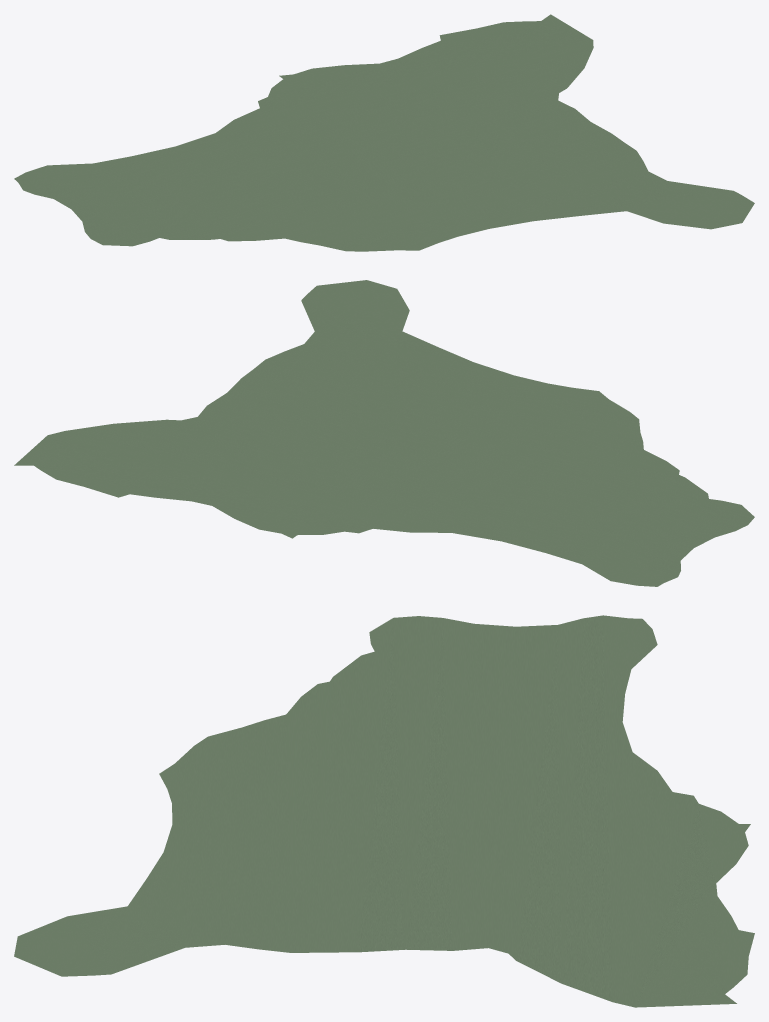
Rendered from nui-cam-lake.glb.
3 renders of one model, top to bottom at view 1: azimuth 30°, elevation 25°; view 2: azimuth 150°, elevation 25°; view 3: azimuth 270°, elevation 25°, orthographic. The views are drawn at different scales.
Visible parts, largest first — view 1: nui-cam-lake; view 2: nui-cam-lake; view 3: nui-cam-lake.
Part boxes in pixels (x1=…): nui-cam-lake: x1=14, y1=14, x2=754, y2=251; nui-cam-lake: x1=14, y1=280, x2=754, y2=586; nui-cam-lake: x1=14, y1=615, x2=754, y2=1007.
Size of the model in its own units: 299 by 0 by 239.
Materials: 1 (1 with a texture image).
